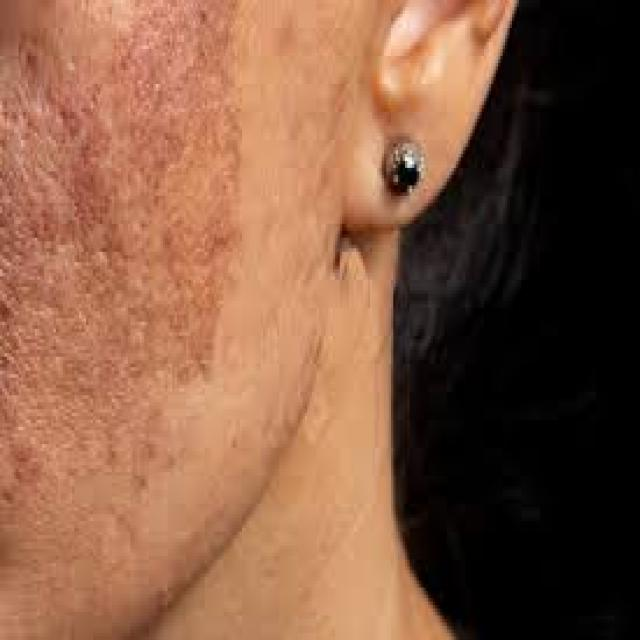pigmentation: (19, 45, 189, 437)
